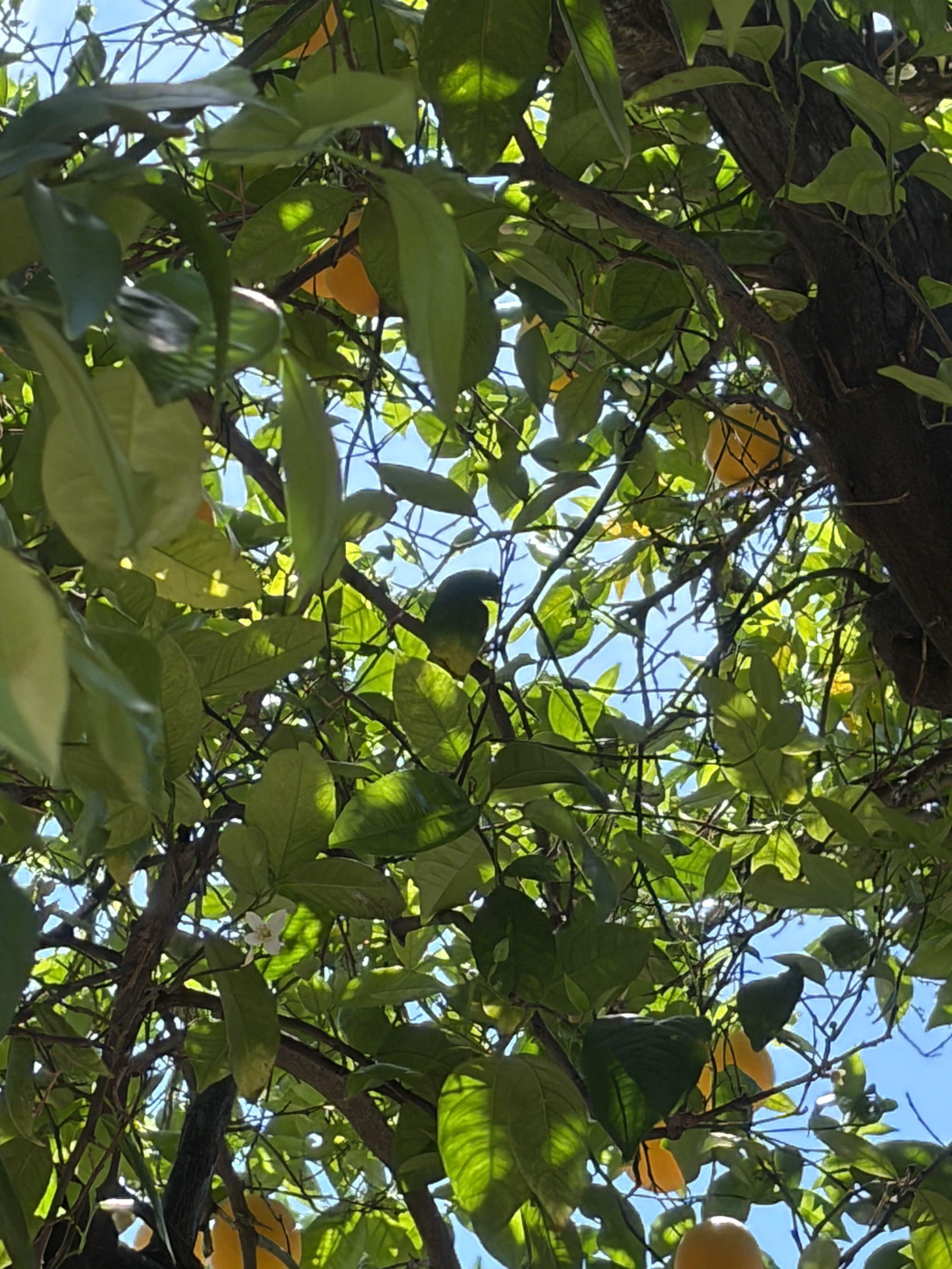orange: (705, 404, 792, 490), (212, 1193, 302, 1269), (696, 1027, 773, 1112), (320, 211, 379, 317), (515, 316, 580, 405), (674, 1215, 765, 1269), (131, 1210, 210, 1269), (626, 1121, 684, 1192), (283, 2, 338, 56), (293, 251, 330, 296), (195, 502, 217, 526)
